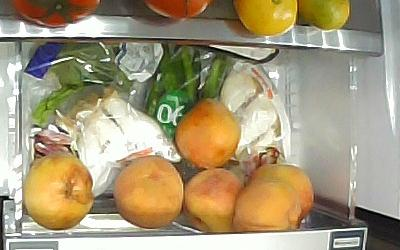peach: (111, 154, 184, 230), (24, 154, 92, 231), (174, 98, 240, 170), (186, 167, 244, 235), (235, 180, 304, 233), (253, 163, 315, 216)
